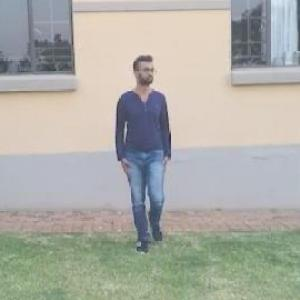follow: (108, 41, 181, 273)
